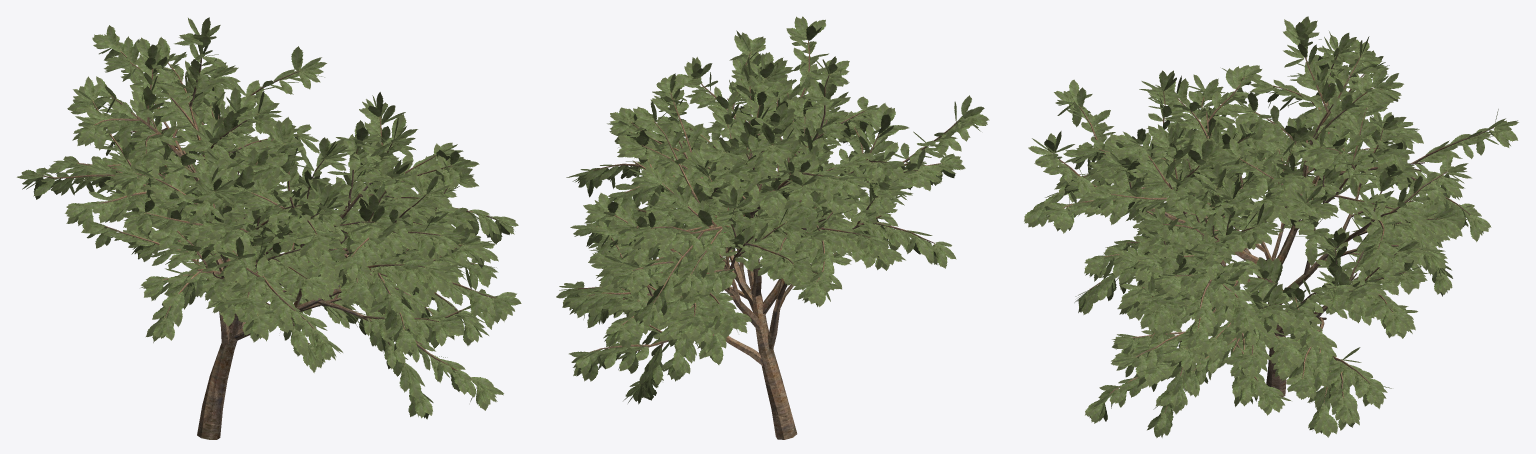
The model's file is castagno_c.gltf.
The picture shows the model from 3 angles, left to right: view 1: azimuth 30°, elevation 25°; view 2: azimuth 150°, elevation 25°; view 3: azimuth 270°, elevation 25°; orthographic projection. The views are drawn at different scales.
Visible parts, largest first — view 1: castagno_c_foglie, castagno_c_rami; view 2: castagno_c_foglie, castagno_c_rami; view 3: castagno_c_foglie, castagno_c_rami.
Boxes of the visible parts, x1=… form: castagno_c_foglie: x1=17, y1=17, x2=521, y2=419; castagno_c_rami: x1=40, y1=51, x2=496, y2=439; castagno_c_foglie: x1=556, y1=16, x2=989, y2=404; castagno_c_rami: x1=578, y1=40, x2=959, y2=439; castagno_c_foglie: x1=1024, y1=16, x2=1518, y2=437; castagno_c_rami: x1=1053, y1=53, x2=1493, y2=412.
Bounding box in the file's own units: 6 × 5.89 × 7.06.
Materials: 2 (2 with a texture image).
